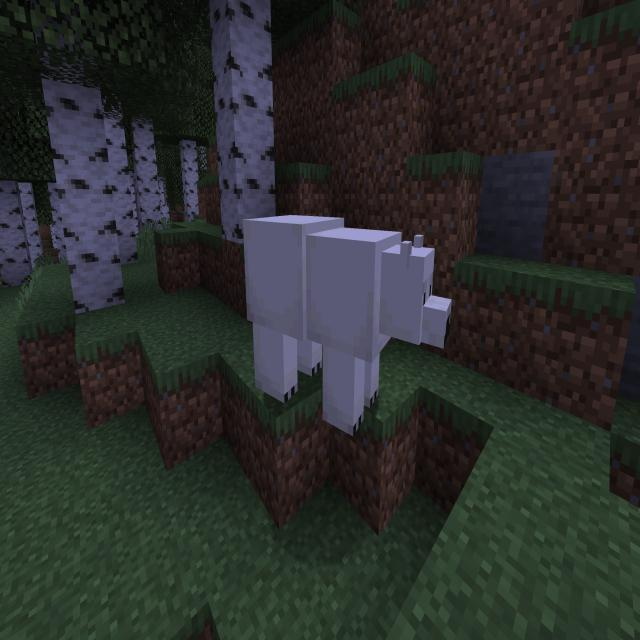Polar Bear: (242, 210, 454, 439)
